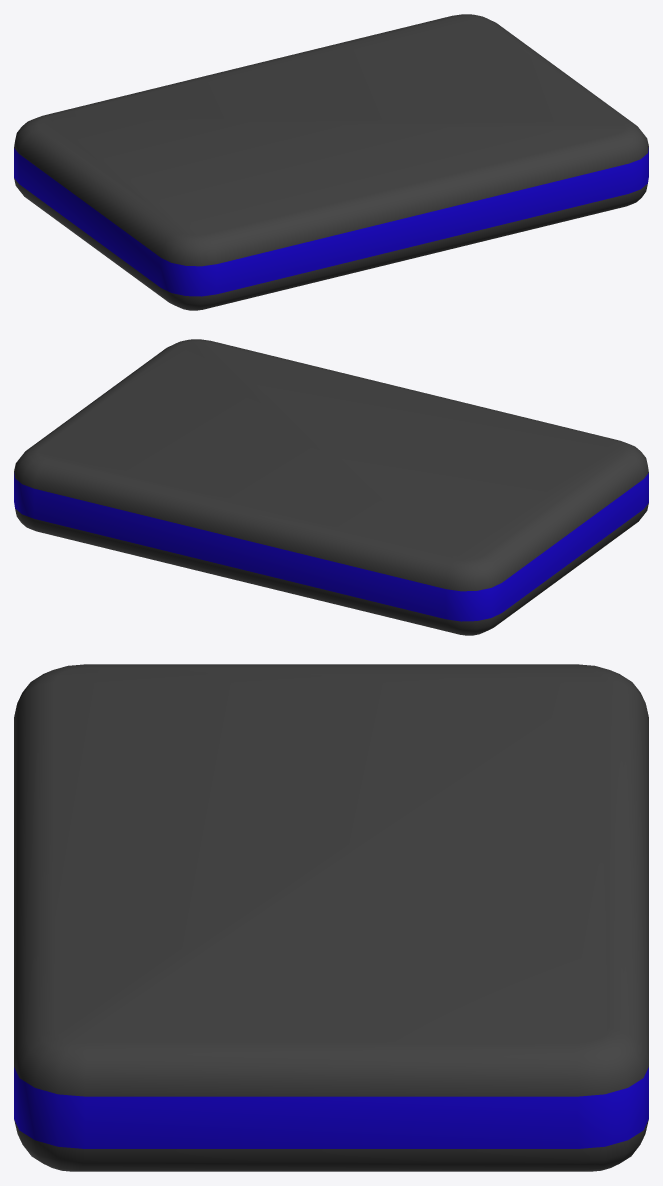
Rendered from WorldSign.fbx.
The picture shows the model from 3 angles, top to bottom: view 1: azimuth 30°, elevation 25°; view 2: azimuth 150°, elevation 25°; view 3: azimuth 270°, elevation 25°; orthographic projection. The views are drawn at different scales.
Parts seen in each view (by area): view 1: Sign; view 2: Sign; view 3: Sign.
Boxes of the visible parts, box(x1,y1,x2,y2) form: Sign: box(14, 14, 648, 310); Sign: box(14, 339, 648, 635); Sign: box(14, 664, 648, 1171).
Bounding box in the file's own units: 165 × 1138 × 746.
